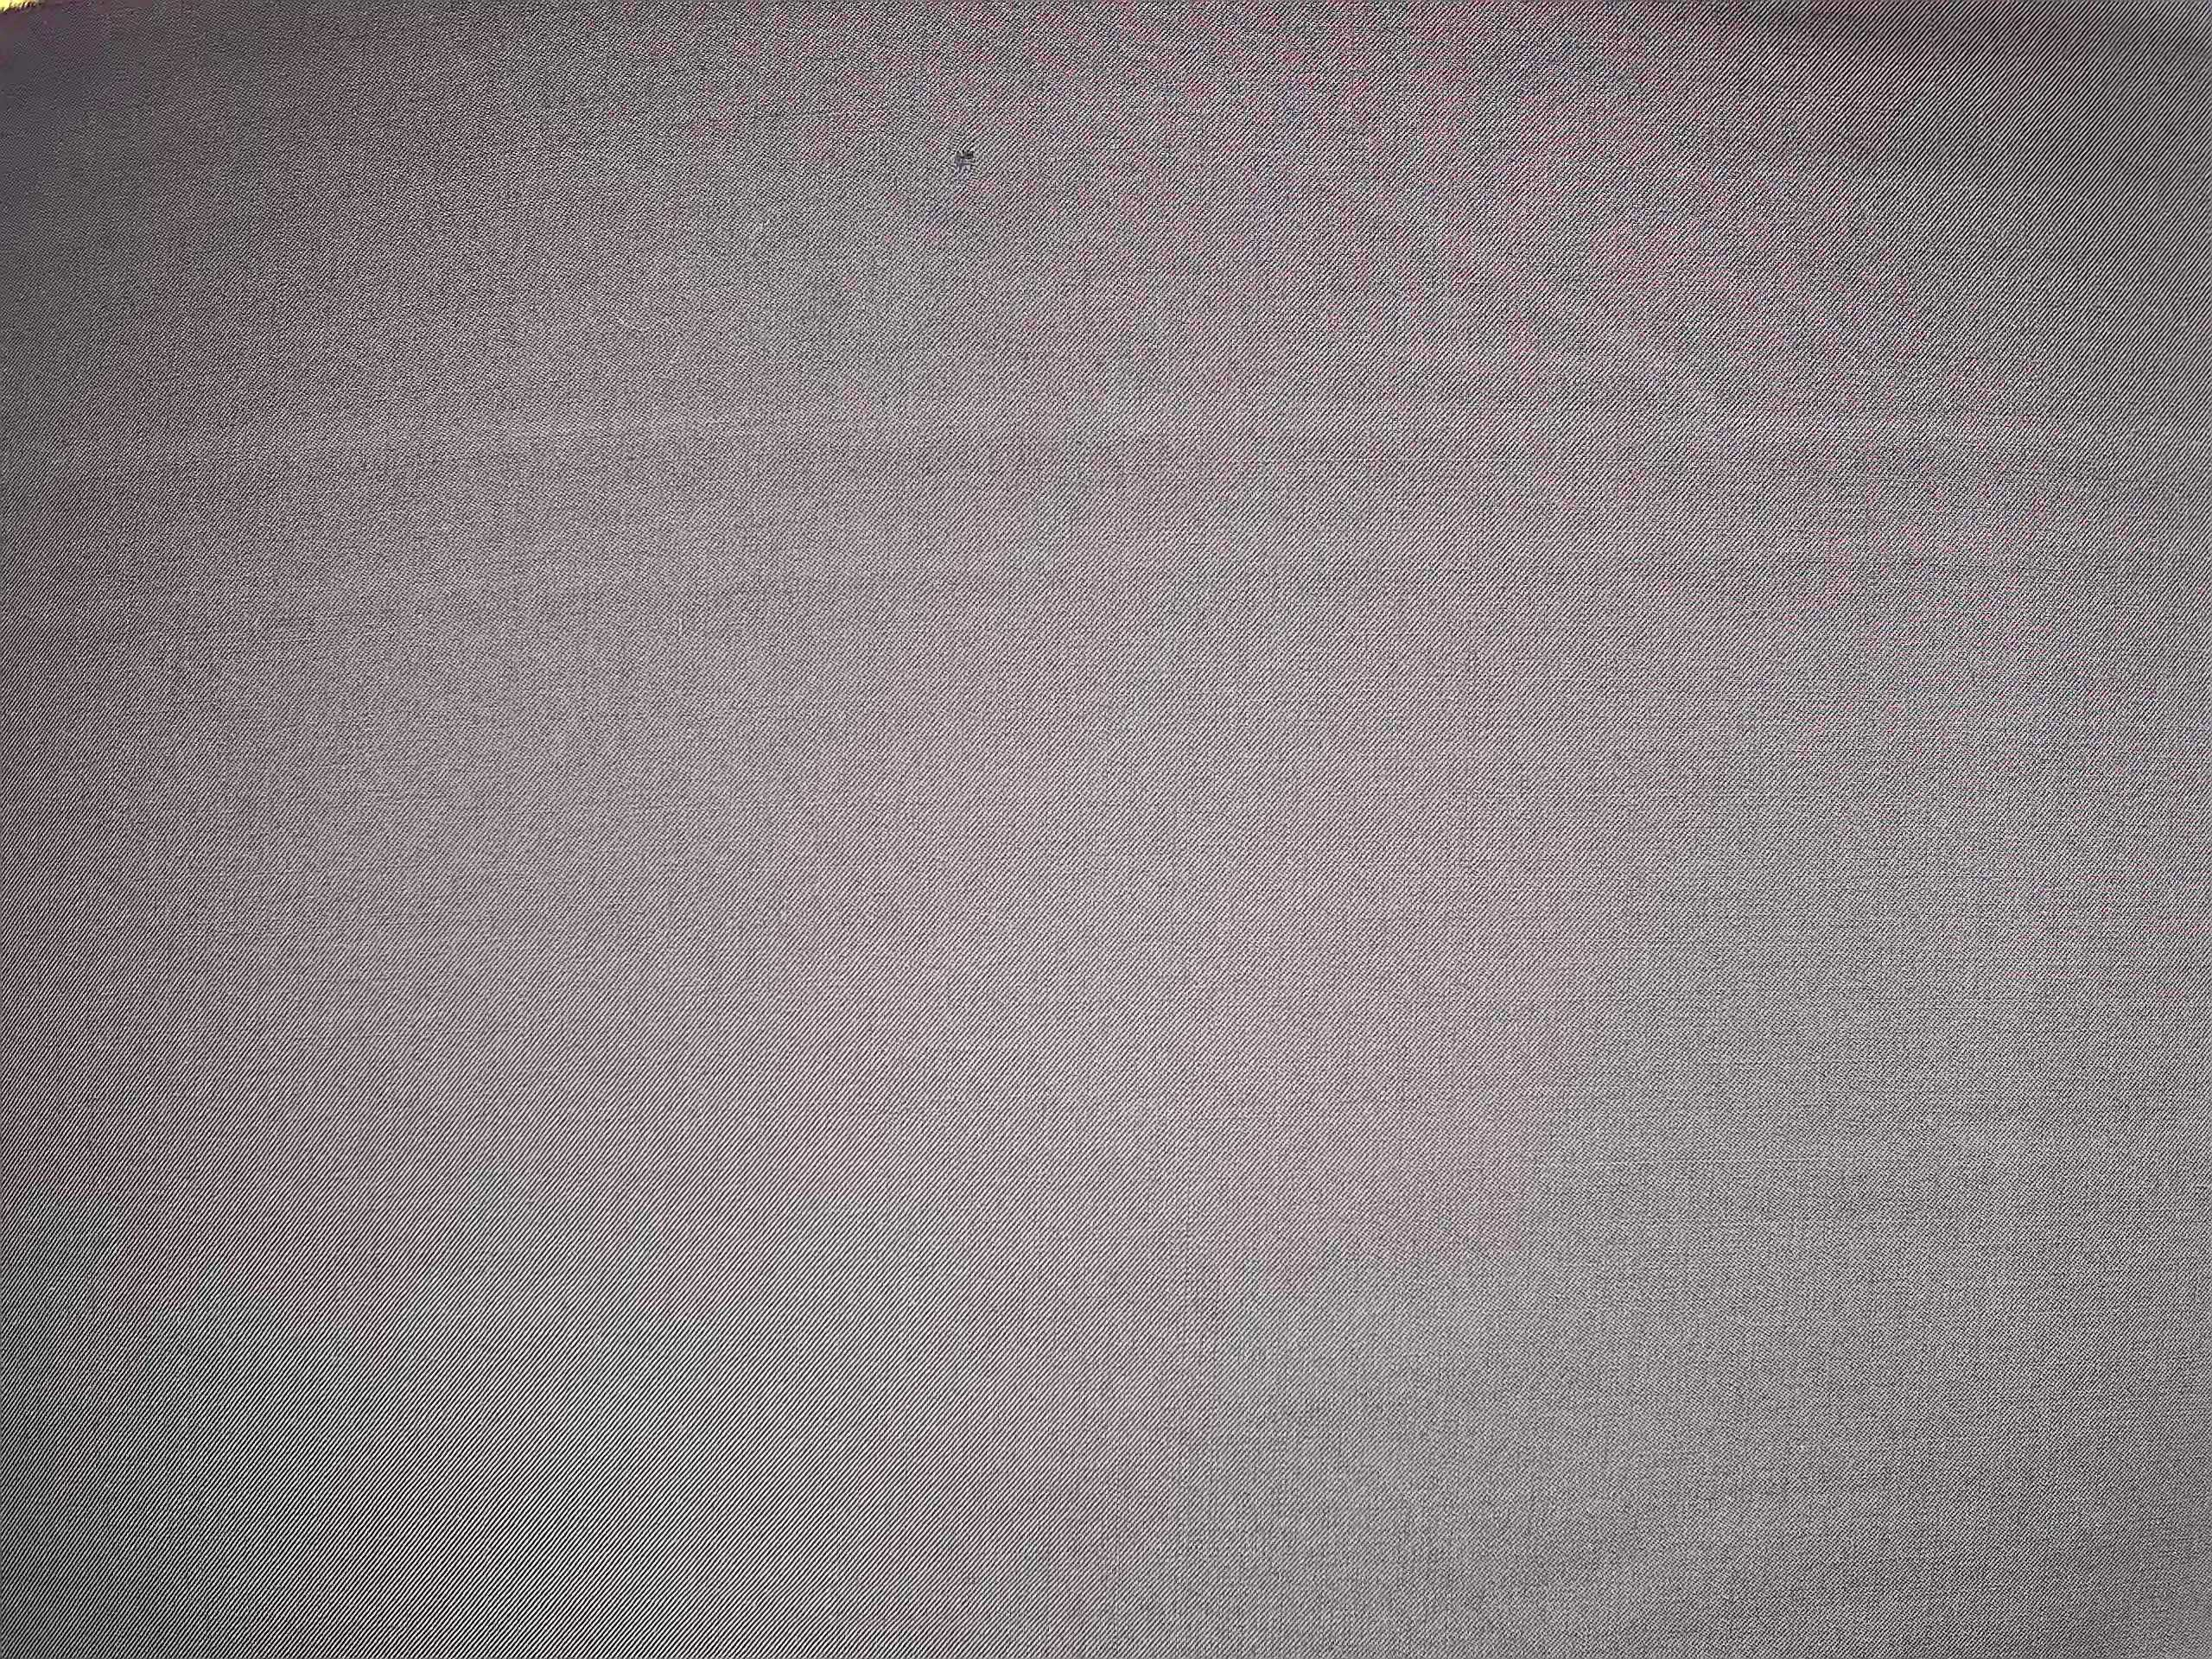rubbing-hole: (942, 134, 986, 179)
